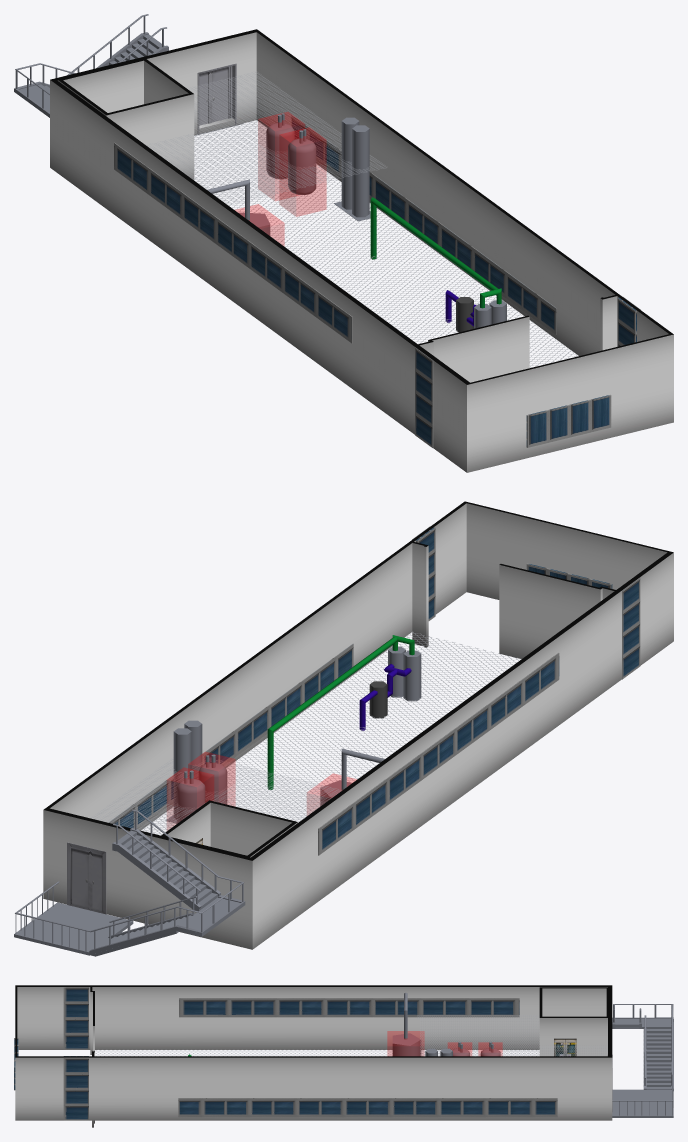
The model's file is soulbrain_T6-3-4F-2.glb.
The picture shows the model from 3 angles, top to bottom: view 1: azimuth 30°, elevation 25°; view 2: azimuth 150°, elevation 25°; view 3: azimuth 270°, elevation 25°; orthographic projection. The views are drawn at different scales.
Parts seen in each view (by area): view 1: Box1704, T6-3-4F-2, equipment-T6-3-4F-2-002, Line1086, ChamferCyl251, equipment-T6-3-4F-2-003, Line1091, Line671, equipment-T6-3-4F-2-001, T6-3-4F-3 A; view 2: Box1704, T6-3-4F-2, Line671, Line1086, ChamferCyl251, equipment-T6-3-4F-2-003, Line1091, equipment-T6-3-4F-2-002, equipment-T6-3-4F-2-001, T6-3-4F-3 A; view 3: Box1704, T6-3-4F-2, Line671, equipment-T6-3-4F-2-001, T6-3-4F-3 A, ChamferCyl251, equipment-T6-3-4F-2-003, equipment-T6-3-4F-2-002.
Part boxes in pixels (<box>): Box1704: <box>50,29,673,472</box>; T6-3-4F-2: <box>114,63,640,447</box>; equipment-T6-3-4F-2-002: <box>279,127,326,216</box>; Line1086: <box>370,197,506,332</box>; ChamferCyl251: <box>266,113,316,195</box>; equipment-T6-3-4F-2-003: <box>258,112,304,200</box>; Line1091: <box>341,117,369,217</box>; Line671: <box>14,14,242,135</box>; equipment-T6-3-4F-2-001: <box>235,204,284,245</box>; T6-3-4F-3 A: <box>207,179,270,235</box>; Box1704: <box>43,501,673,949</box>; T6-3-4F-2: <box>67,526,640,914</box>; Line671: <box>14,809,245,956</box>; Line1086: <box>267,635,421,789</box>; ChamferCyl251: <box>176,754,227,823</box>; equipment-T6-3-4F-2-003: <box>167,767,213,830</box>; Line1091: <box>173,720,202,819</box>; equipment-T6-3-4F-2-002: <box>188,752,235,805</box>; equipment-T6-3-4F-2-001: <box>307,773,356,815</box>; T6-3-4F-3 A: <box>320,748,384,806</box>; Box1704: <box>15,985,612,1127</box>; T6-3-4F-2: <box>14,987,612,1120</box>; Line671: <box>612,1004,673,1117</box>; equipment-T6-3-4F-2-001: <box>387,1031,424,1055</box>; T6-3-4F-3 A: <box>392,992,421,1056</box>; ChamferCyl251: <box>452,1041,500,1056</box>; equipment-T6-3-4F-2-003: <box>478,1042,502,1055</box>; equipment-T6-3-4F-2-002: <box>448,1042,471,1055</box>.
Bounding box in the file's own units: 8.13 × 4.57 × 31.17.
Materials: 13 (10 with a texture image).
